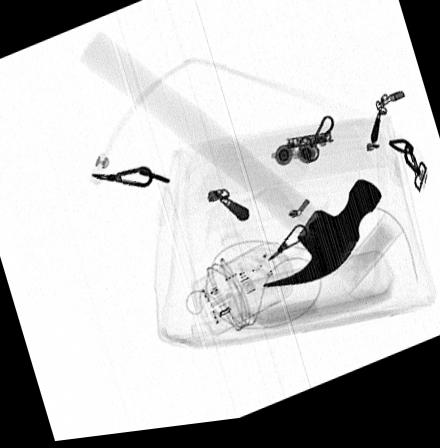Hammer: (76, 32, 382, 295)
